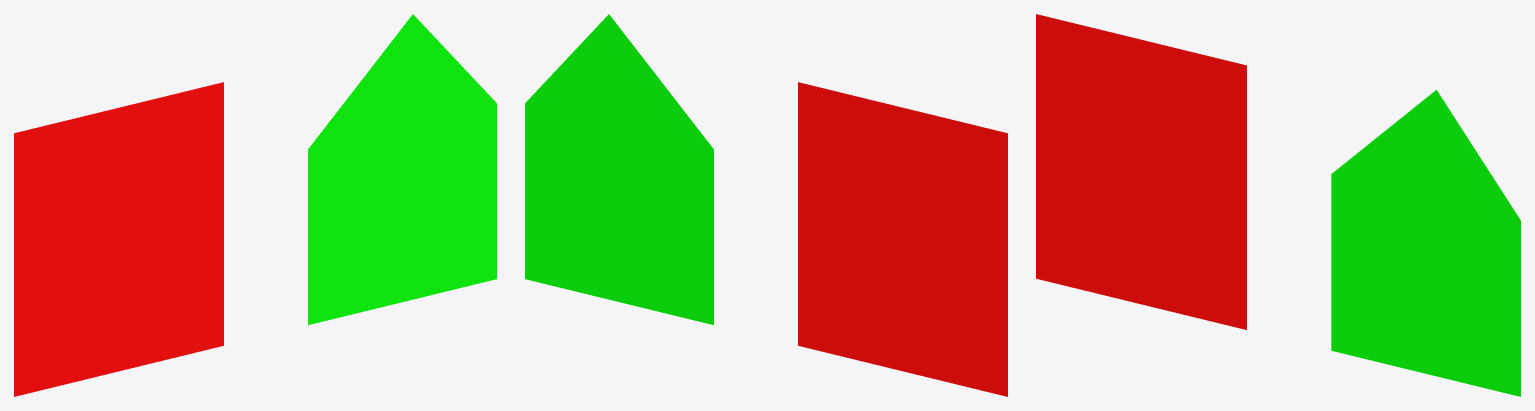
File: loose_topology.gltf
The picture shows the model from 3 angles, left to right: view 1: azimuth 30°, elevation 25°; view 2: azimuth 150°, elevation 25°; view 3: azimuth 330°, elevation 25°; orthographic projection.
Parts seen in each view (by area): view 1: Strip, Fan; view 2: Strip, Fan; view 3: Strip, Fan.
Part boxes in pixels (<box>): Strip: <box>14,82,223,396</box>; Fan: <box>308,14,496,324</box>; Strip: <box>798,82,1007,396</box>; Fan: <box>525,14,713,324</box>; Strip: <box>1036,14,1246,329</box>; Fan: <box>1331,90,1520,396</box>.
Size of the model in its own units: 1.15 by 0.65 by 0.
